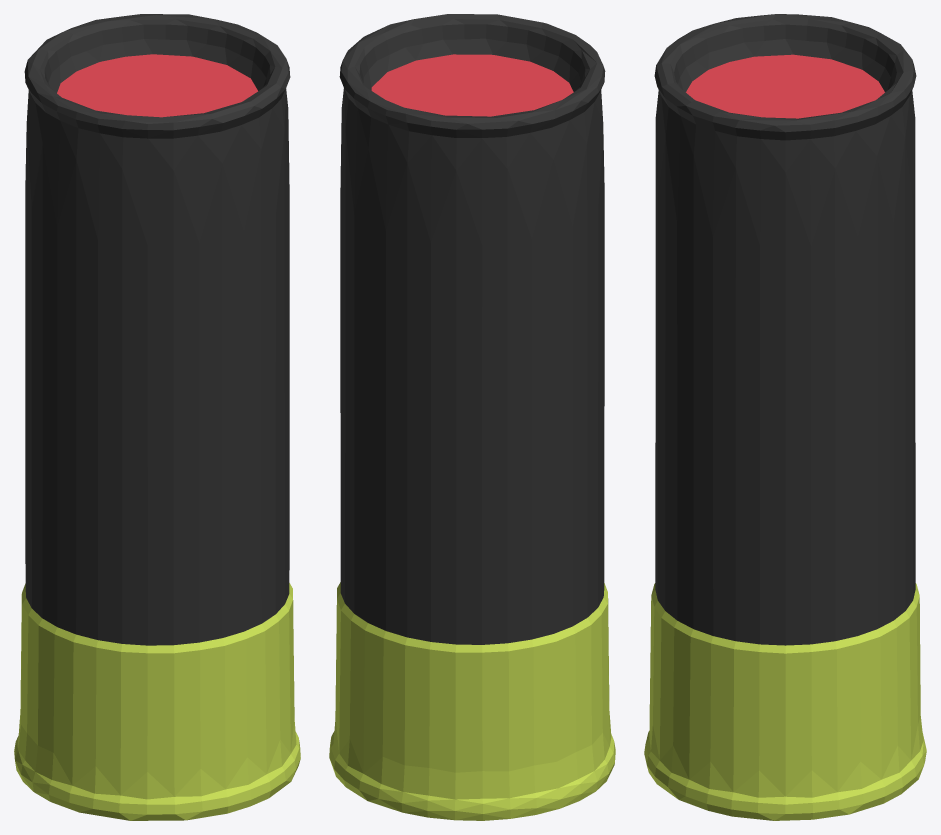
The model's file is PompBullet.fbx.
The picture shows the model from 3 angles, left to right: view 1: azimuth 30°, elevation 25°; view 2: azimuth 150°, elevation 25°; view 3: azimuth 270°, elevation 25°; orthographic projection.
Visible parts, largest first — view 1: Cylinder; view 2: Cylinder; view 3: Cylinder.
Boxes of the visible parts, x1,y1,x2,y2 form: Cylinder: (14, 14, 300, 820); Cylinder: (329, 14, 615, 820); Cylinder: (644, 14, 926, 820).
Bounding box in the file's own units: 103 × 275 × 102.
